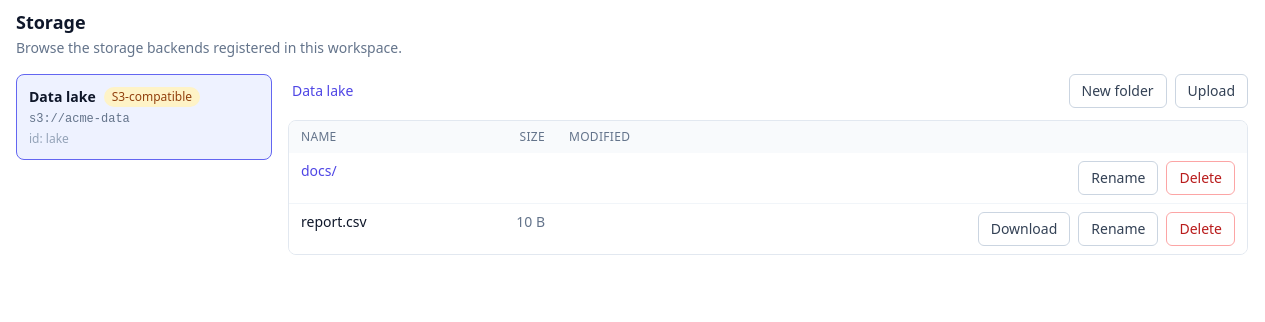
Scenario: deleting › warns that deleting a folder deletes everything inside, and reports the count
Click the button with aria-label "Delete docs" at point(1201, 178), box top-left (1166, 161), bottom-right (1235, 195)
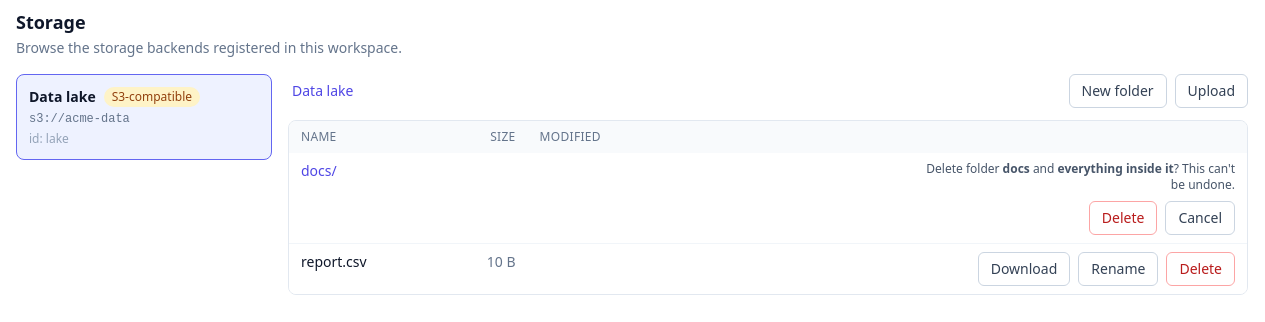
Expected: the text "everything inside it" is shown, top-left (1058, 160), bottom-right (1174, 177)
Click the button "Delete" below "Delete folder" at point(1123, 218), box top-left (1089, 201), bottom-right (1157, 235)
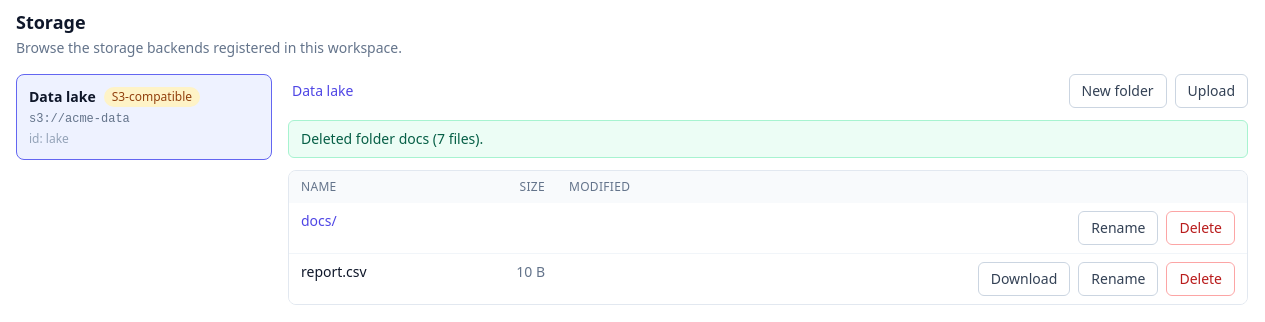
Expected: the text "Deleted folder docs (7 files)." is shown, top-left (288, 120), bottom-right (1248, 158)
